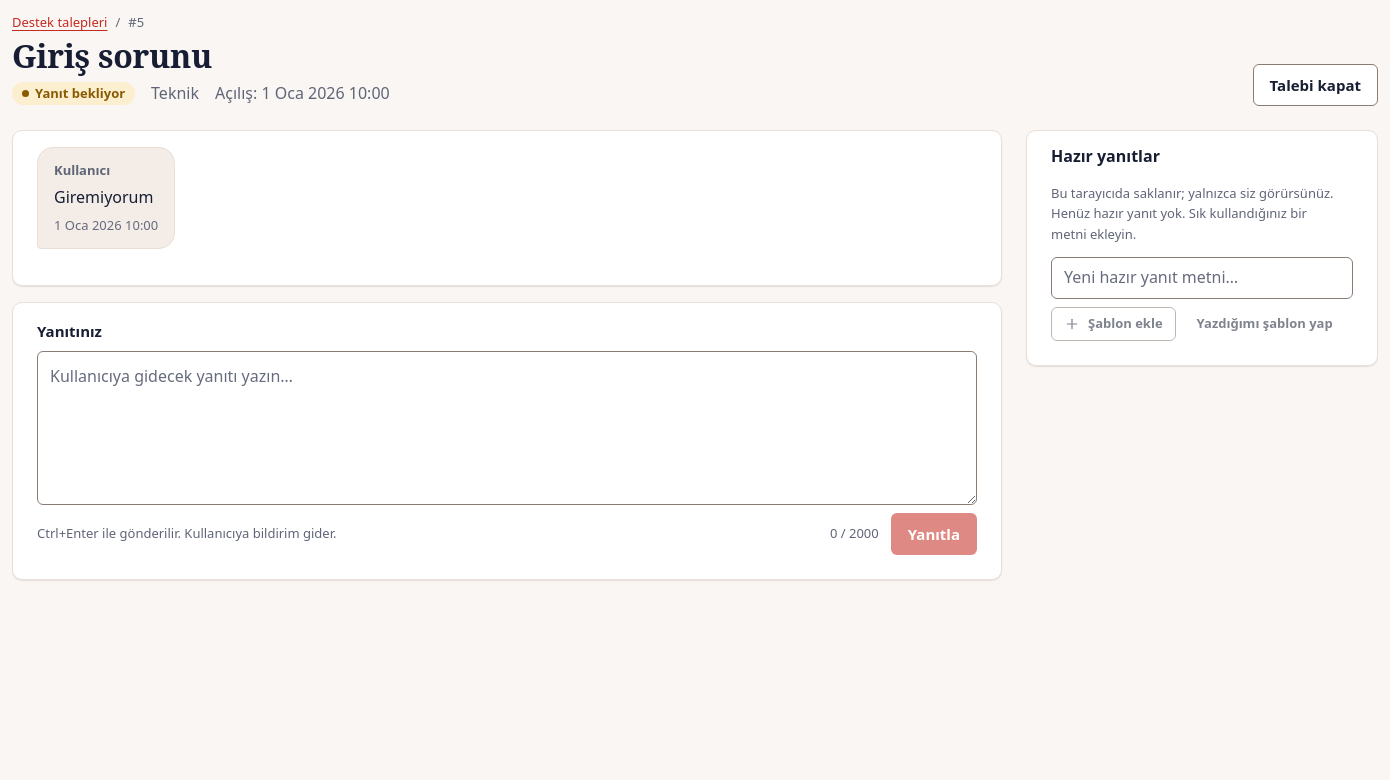
Talep ayrıntısı › yanıtı Ctrl+Enter ile gönderir ve sohbete ekler
Expected: the text "Giremiyorum" is shown, x1=54 y1=185 x2=158 y2=211
Type "Deneyin" into the text box labelled "Yanıtınız" at (507, 428), box x1=37 y1=351 x2=977 y2=505
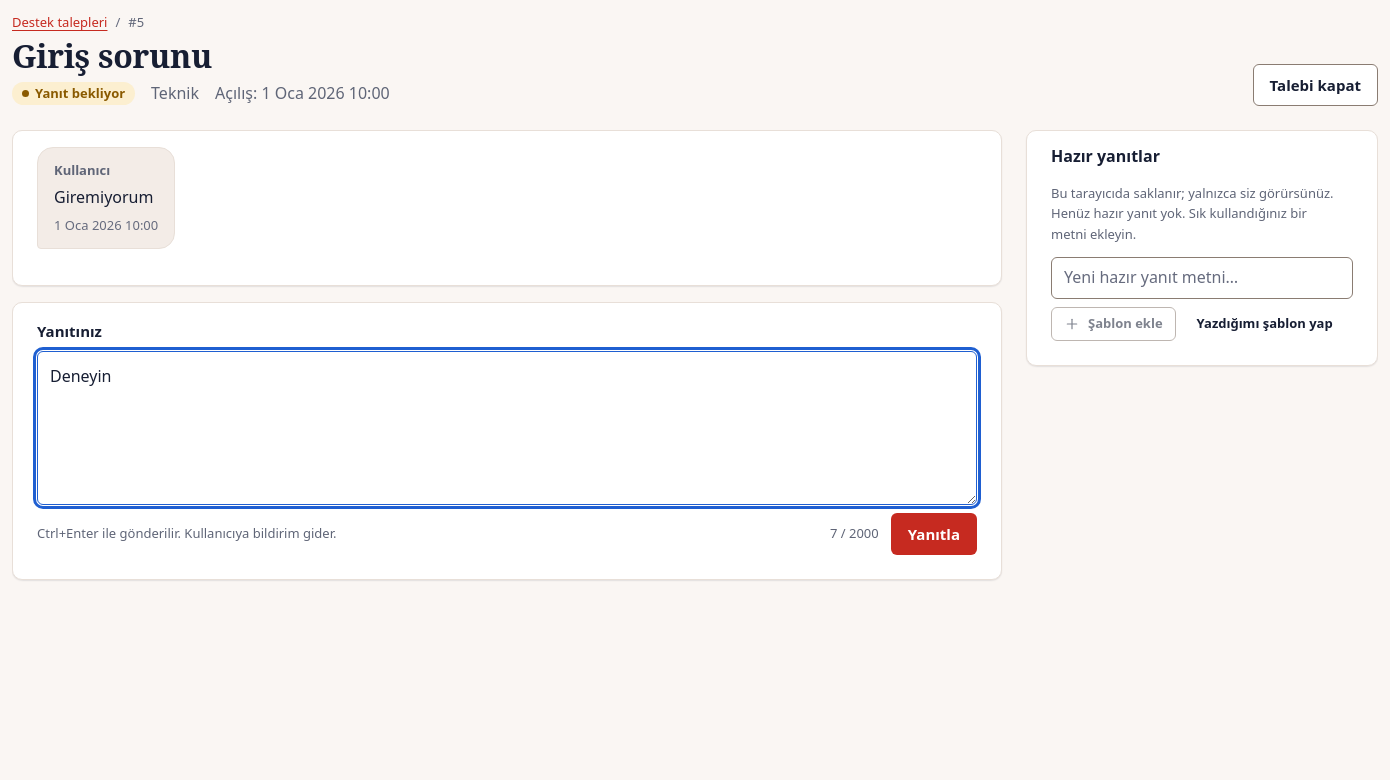
Result: the text "7 / 2000" is shown at x1=830 y1=523 x2=879 y2=544
Type keys "{Control>}{Enter}{/Control}"
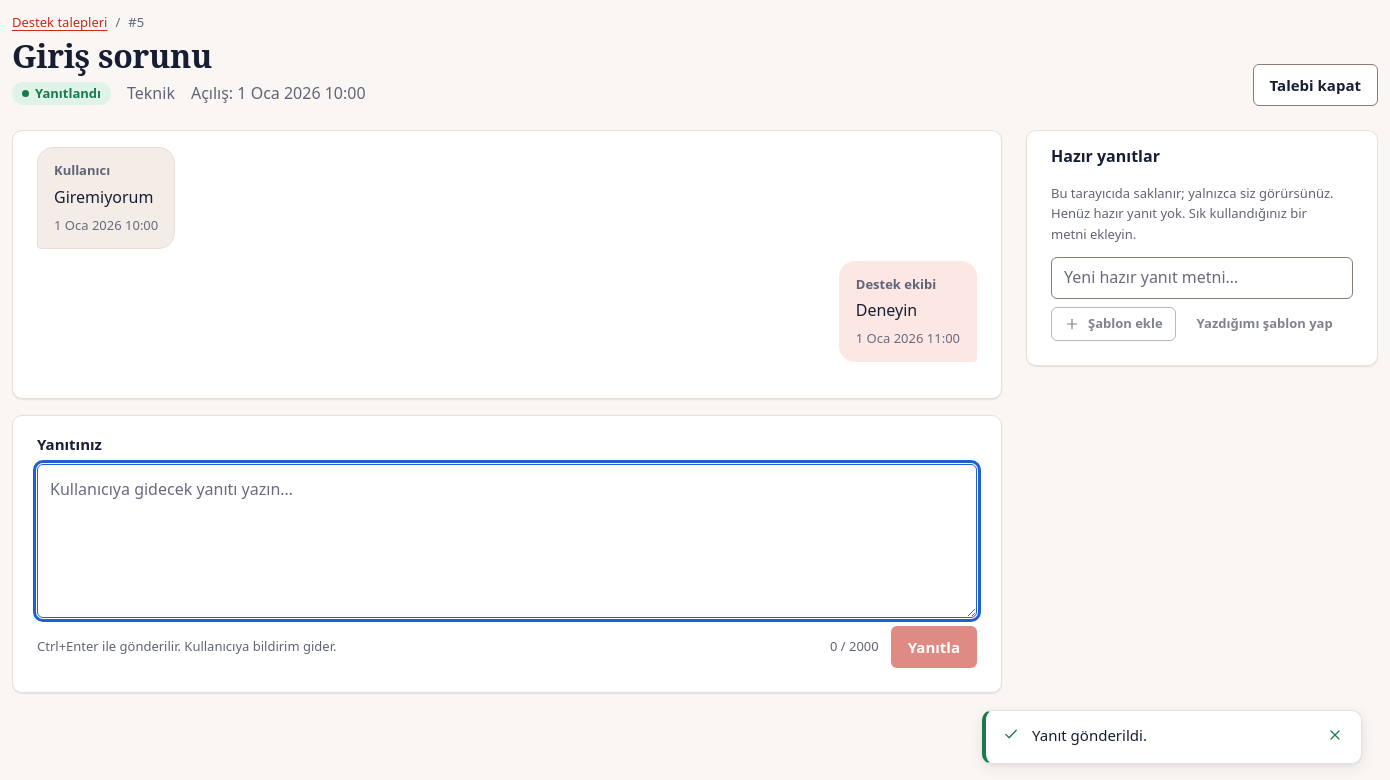
Result: the text "Yanıtlandı" is shown at x1=12 y1=82 x2=111 y2=105
Result: the text "Deneyin" is shown at x1=856 y1=300 x2=917 y2=322
